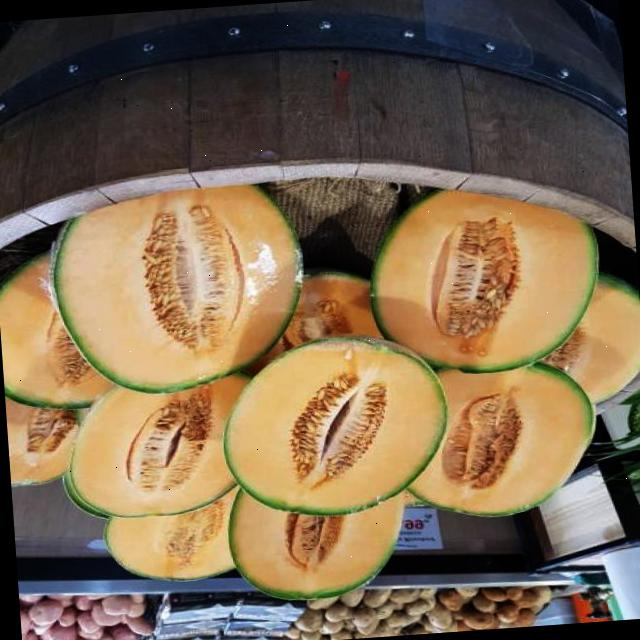Hami Melon: (49, 176, 310, 398), (368, 184, 604, 378), (217, 334, 452, 520), (401, 358, 599, 516), (64, 373, 260, 528), (226, 474, 416, 604)
